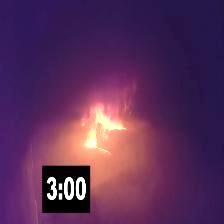fire: (72, 102, 122, 152)
